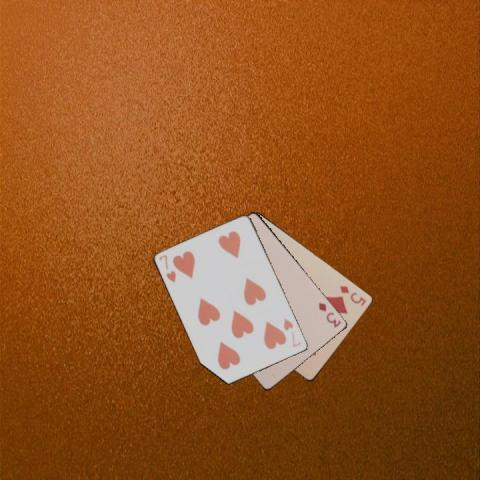3d: (316, 299, 343, 329)
5d: (337, 283, 367, 307)
7h: (281, 316, 302, 349), (156, 252, 177, 284)
